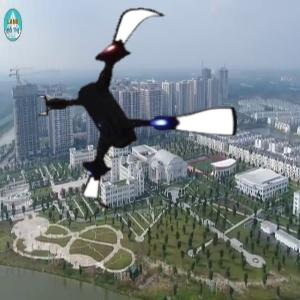drone: (33, 4, 245, 216)
